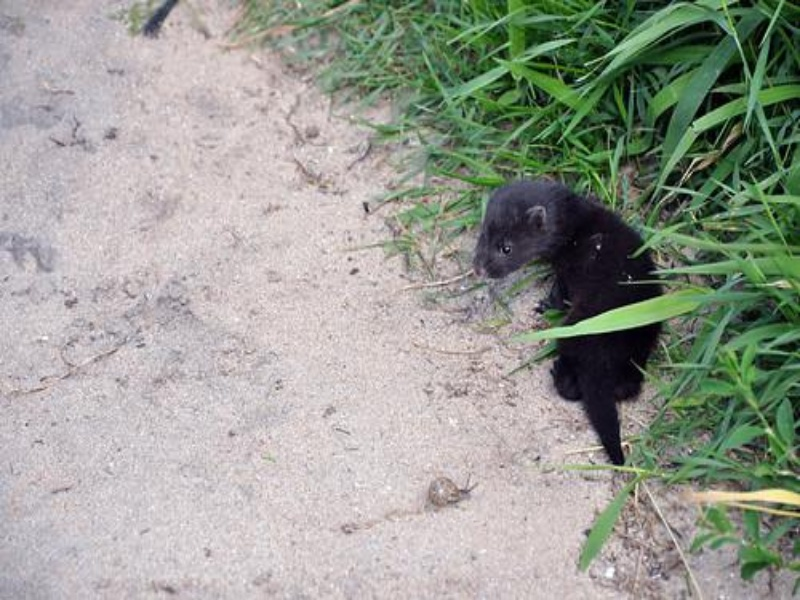minkish: (469, 173, 665, 468)
